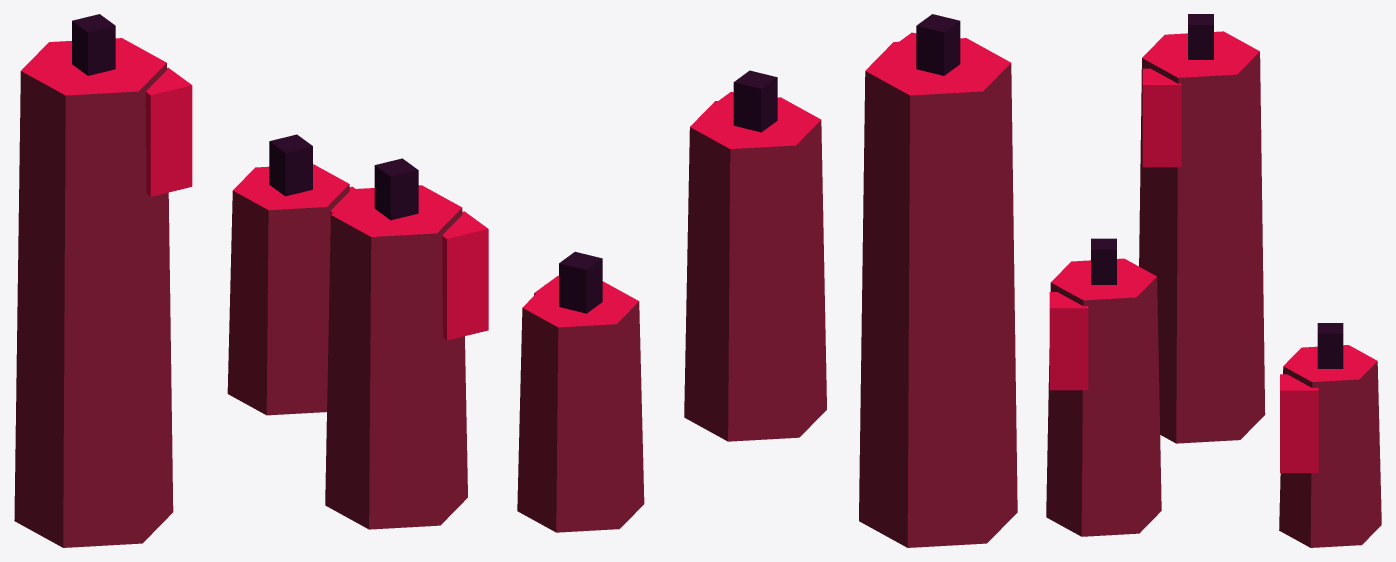
Rendered from candles3.glb.
3 views of the same model, side by side, from view 1: azimuth 30°, elevation 25°; view 2: azimuth 150°, elevation 25°; view 3: azimuth 270°, elevation 25° (orthographic). The views are drawn at different scales.
Parts seen in each view (by area): view 1: Candles3; view 2: Candles3; view 3: Candles3.
Boxes of the visible parts, x1,y1,x2,y2 form: Candles3: (14, 14, 488, 547); Candles3: (517, 14, 1017, 547); Candles3: (1046, 14, 1381, 547).
Bounding box in the file's own units: 0.5704 × 0.68 × 0.5185.
